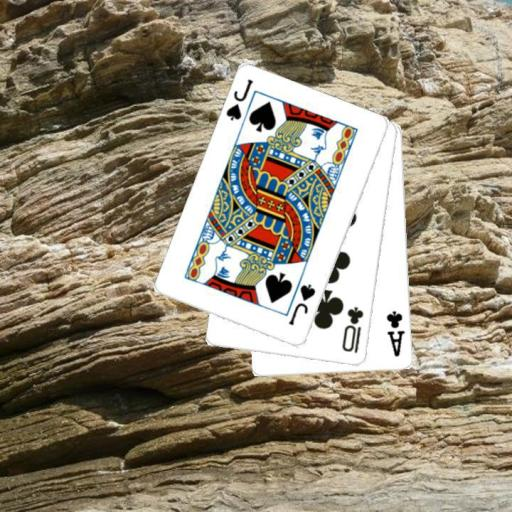10C: (339, 304, 366, 355)
AC: (384, 308, 407, 358)
JS: (223, 76, 255, 122), (286, 281, 317, 327)
